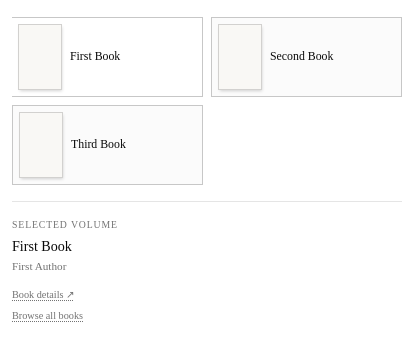
HomeBookshelf › renders every book as an individually selectable mobile entry
Click the button with class "home-bookshelf-mobile-book" showing "SD Second Book".
click(306, 57)  # box [211,17,402,97]
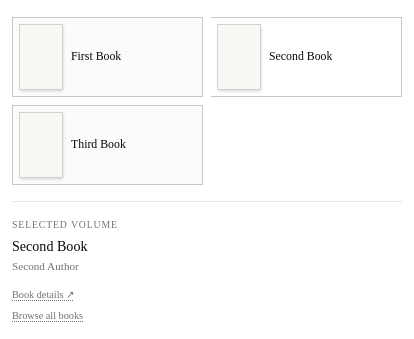
Now the text "Second Author" is shown, box [12,260,79,272]
